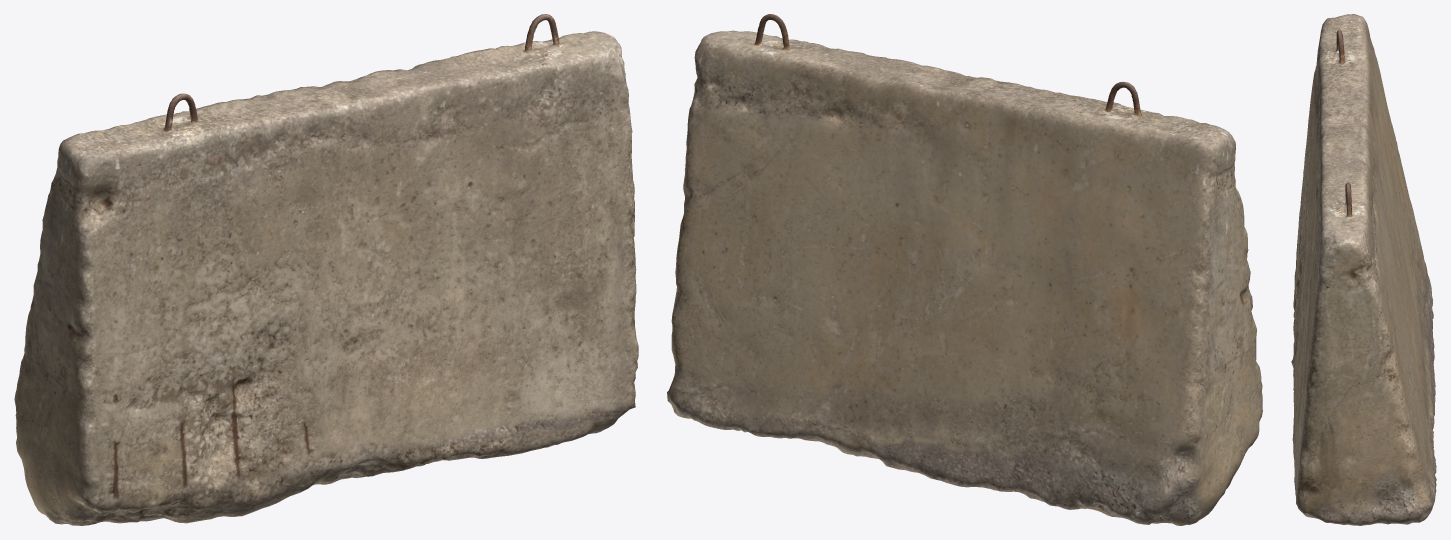
File: jersey.glb
The picture shows the model from 3 angles, left to right: view 1: azimuth 30°, elevation 25°; view 2: azimuth 150°, elevation 25°; view 3: azimuth 270°, elevation 25°; orthographic projection. The views are drawn at different scales.
Parts seen in each view (by area): view 1: concrete_road_barrier_02; view 2: concrete_road_barrier_02; view 3: concrete_road_barrier_02.
Boxes of the visible parts, box(x1,y1,x2,y2) form: concrete_road_barrier_02: box(14, 14, 638, 525); concrete_road_barrier_02: box(667, 14, 1262, 525); concrete_road_barrier_02: box(1291, 14, 1436, 525).
Size of the model in its own units: 1.57 by 1.11 by 0.4421.
1 material, 1 textured.
